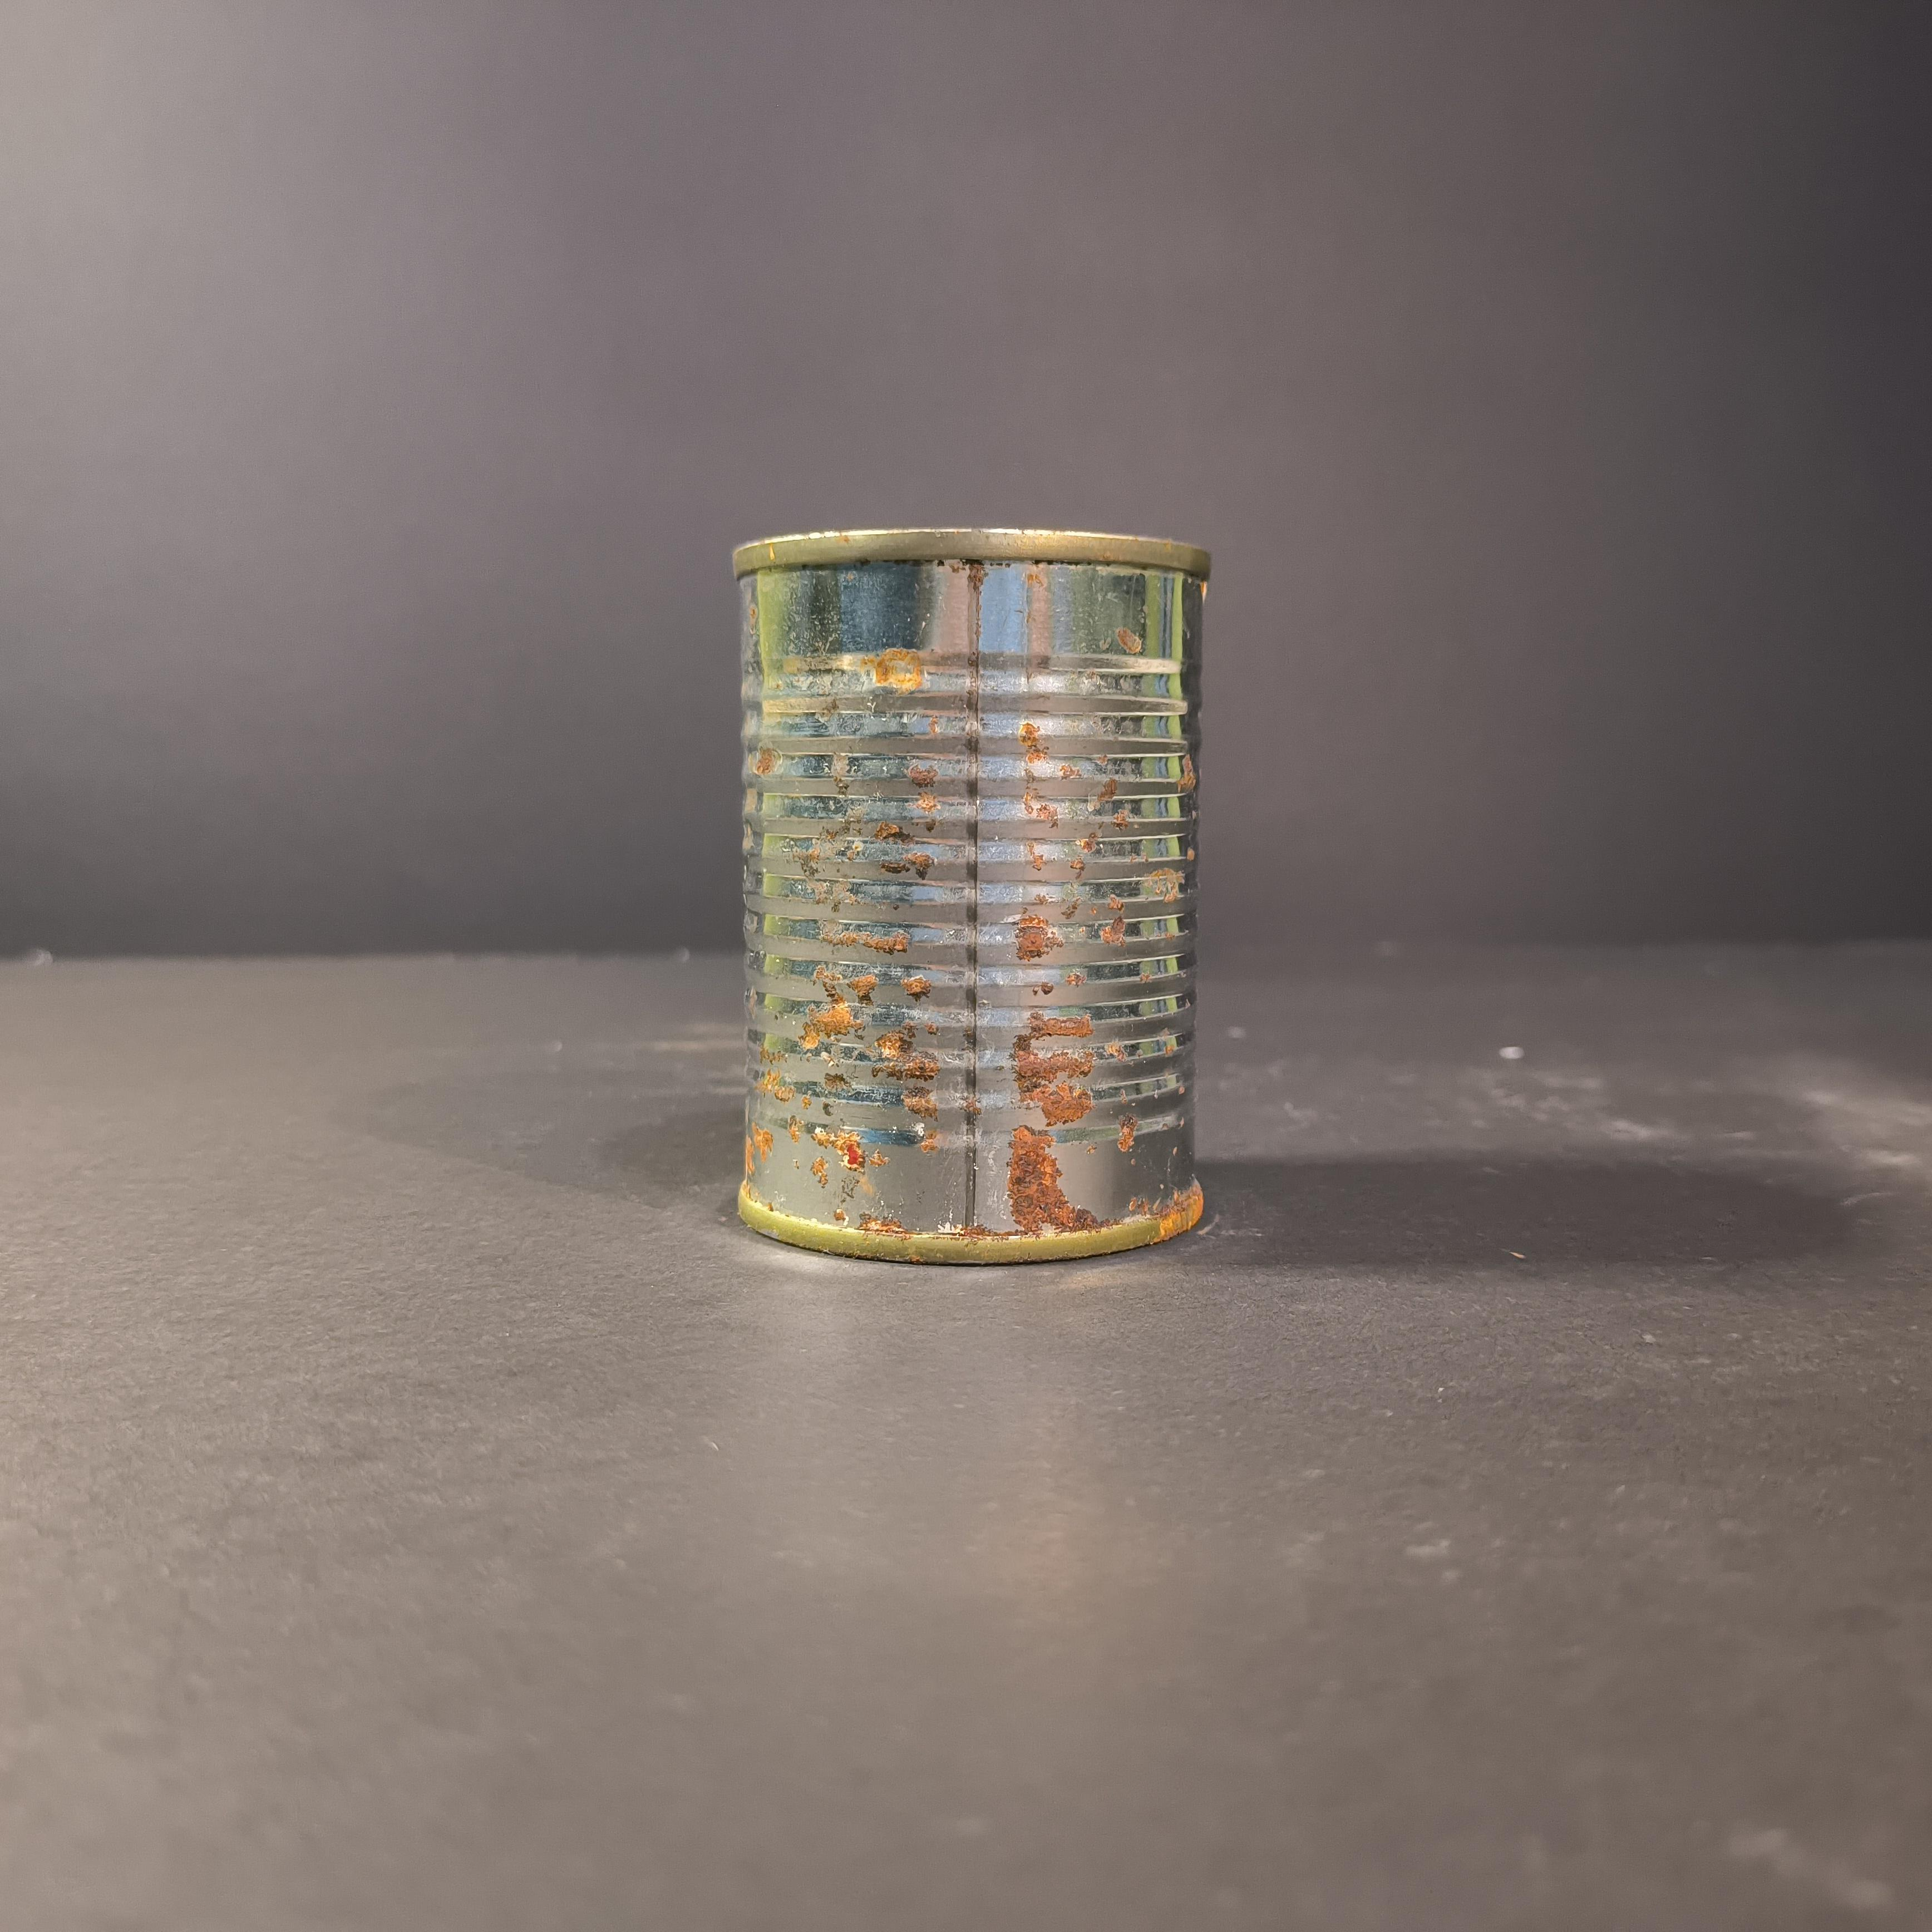Rusted: (706, 504, 1233, 1274)
